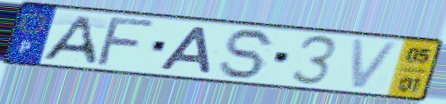3: (288, 33, 339, 88)
A: (38, 14, 99, 67), (155, 25, 214, 76)
F: (92, 16, 160, 69)
S: (216, 27, 280, 81)
V: (348, 37, 404, 92)
